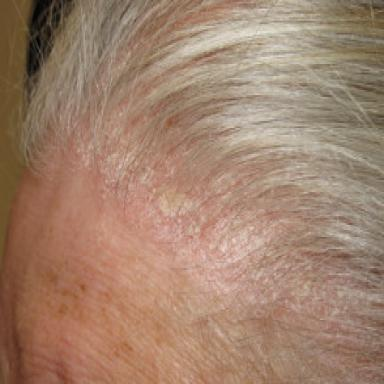Psoriasis: (68, 104, 384, 383)
